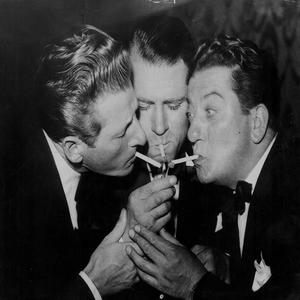cigarette: (170, 151, 203, 168), (136, 151, 163, 171), (158, 143, 169, 163)
